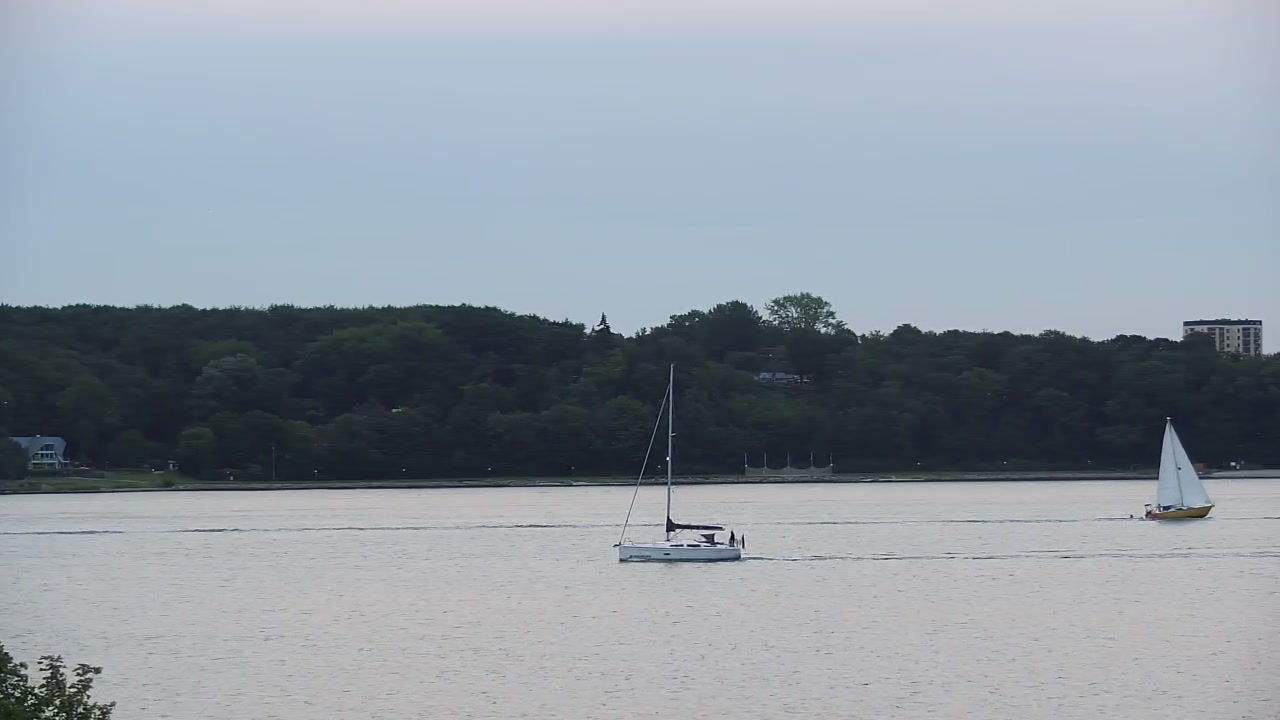human: (728, 530, 736, 548)
sea: (611, 361, 745, 565), (1141, 416, 1214, 519)
